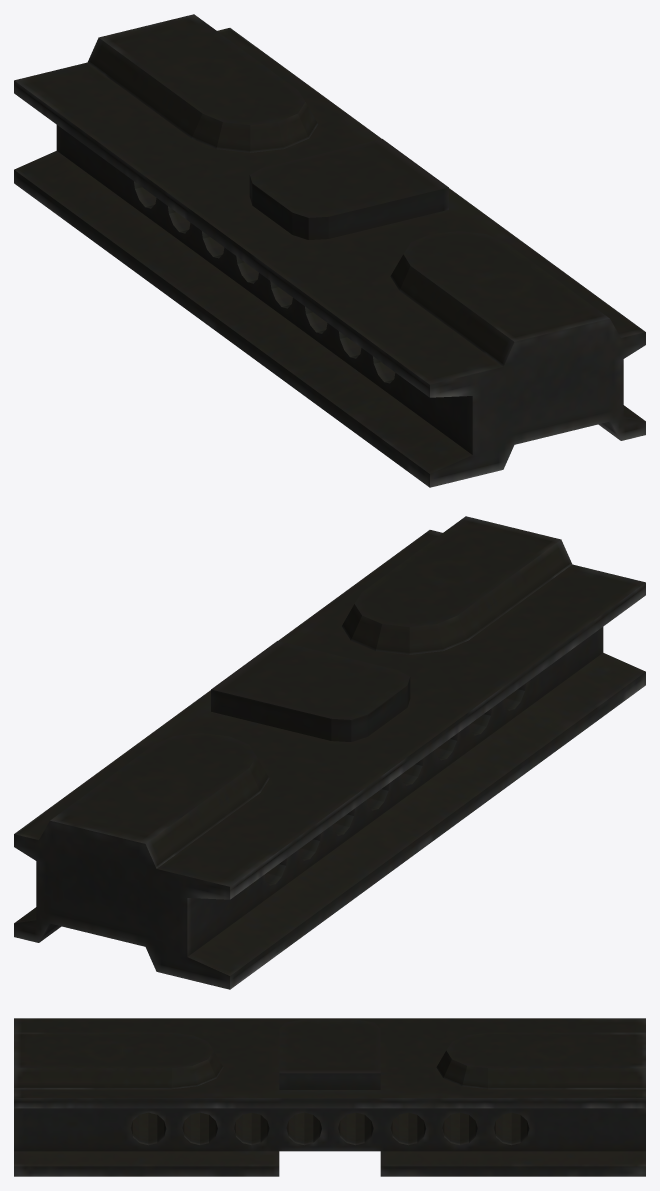
The picture shows the model from 3 angles, top to bottom: view 1: azimuth 30°, elevation 25°; view 2: azimuth 150°, elevation 25°; view 3: azimuth 270°, elevation 25°; orthographic projection. The views are drawn at different scales.
Parts seen in each view (by area): view 1: TW_5c7d560b2e22160bc12c6139_PZ_Import; view 2: TW_5c7d560b2e22160bc12c6139_PZ_Import; view 3: TW_5c7d560b2e22160bc12c6139_PZ_Import.
Boxes of the visible parts, x1,y1,x2,y2 form: TW_5c7d560b2e22160bc12c6139_PZ_Import: (14,14,645,487); TW_5c7d560b2e22160bc12c6139_PZ_Import: (14,516,645,989); TW_5c7d560b2e22160bc12c6139_PZ_Import: (14,1018,645,1176).
Bounding box in the file's own units: 0.0121 × 0.0405 × 0.00672.
Materials: 1 (1 with a texture image).
